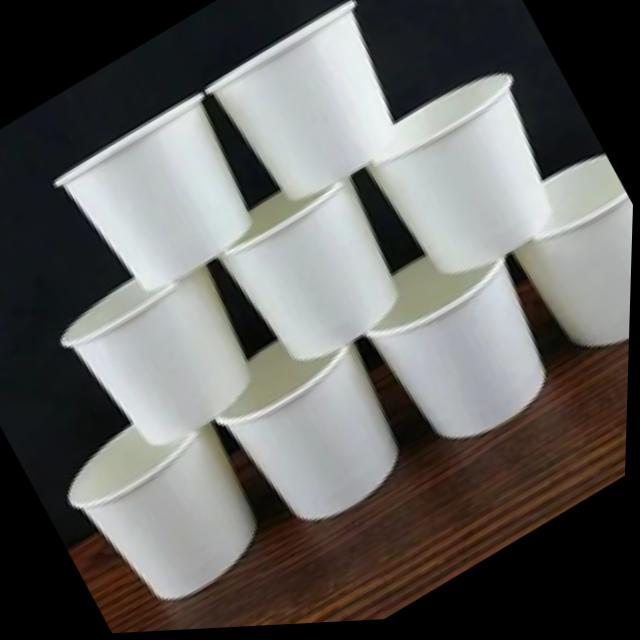paper_cups: (344, 216, 580, 472), (346, 61, 583, 306), (54, 384, 287, 631), (200, 302, 430, 551), (49, 237, 278, 473), (197, 151, 423, 389), (54, 87, 284, 317), (202, 0, 429, 220), (491, 153, 636, 381)
